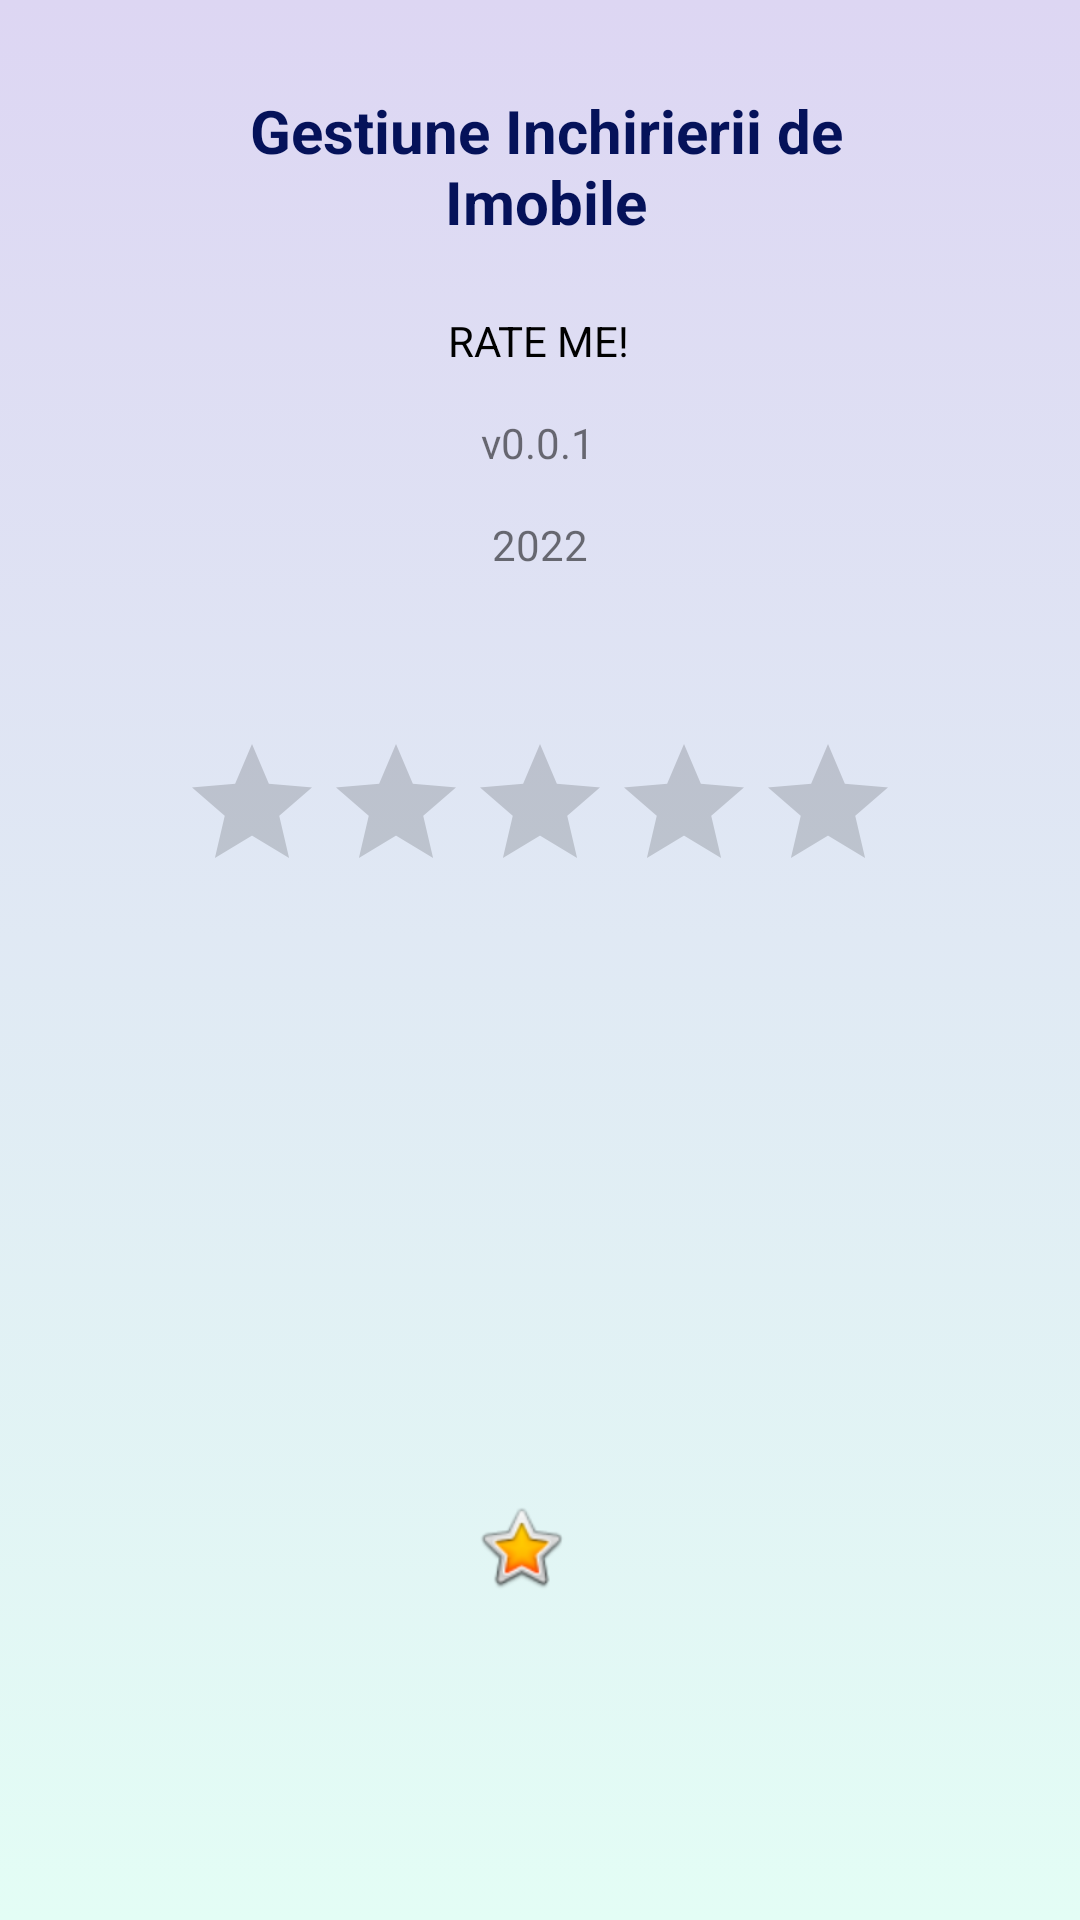

Icon click points for this 1080*1920 phone screenshot, format (x,y):
star on: (522,1548)
